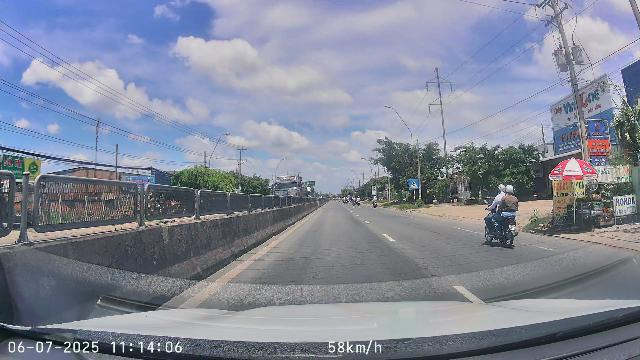423a-duong-nguoi-di-bo-sang-ngang-1: (409, 179, 418, 189)
